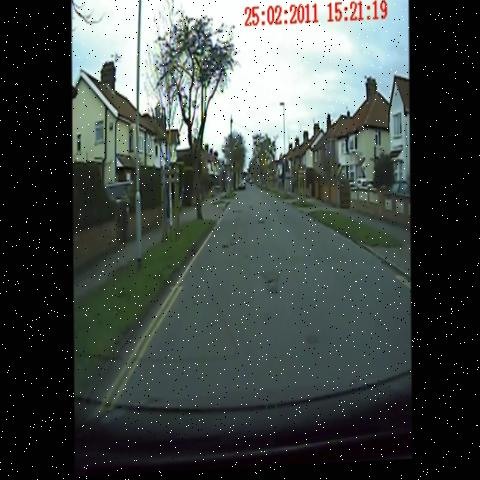pothole: (257, 264, 286, 306), (214, 234, 243, 261), (301, 328, 321, 356), (228, 203, 246, 225), (255, 212, 268, 235), (247, 200, 256, 217)
